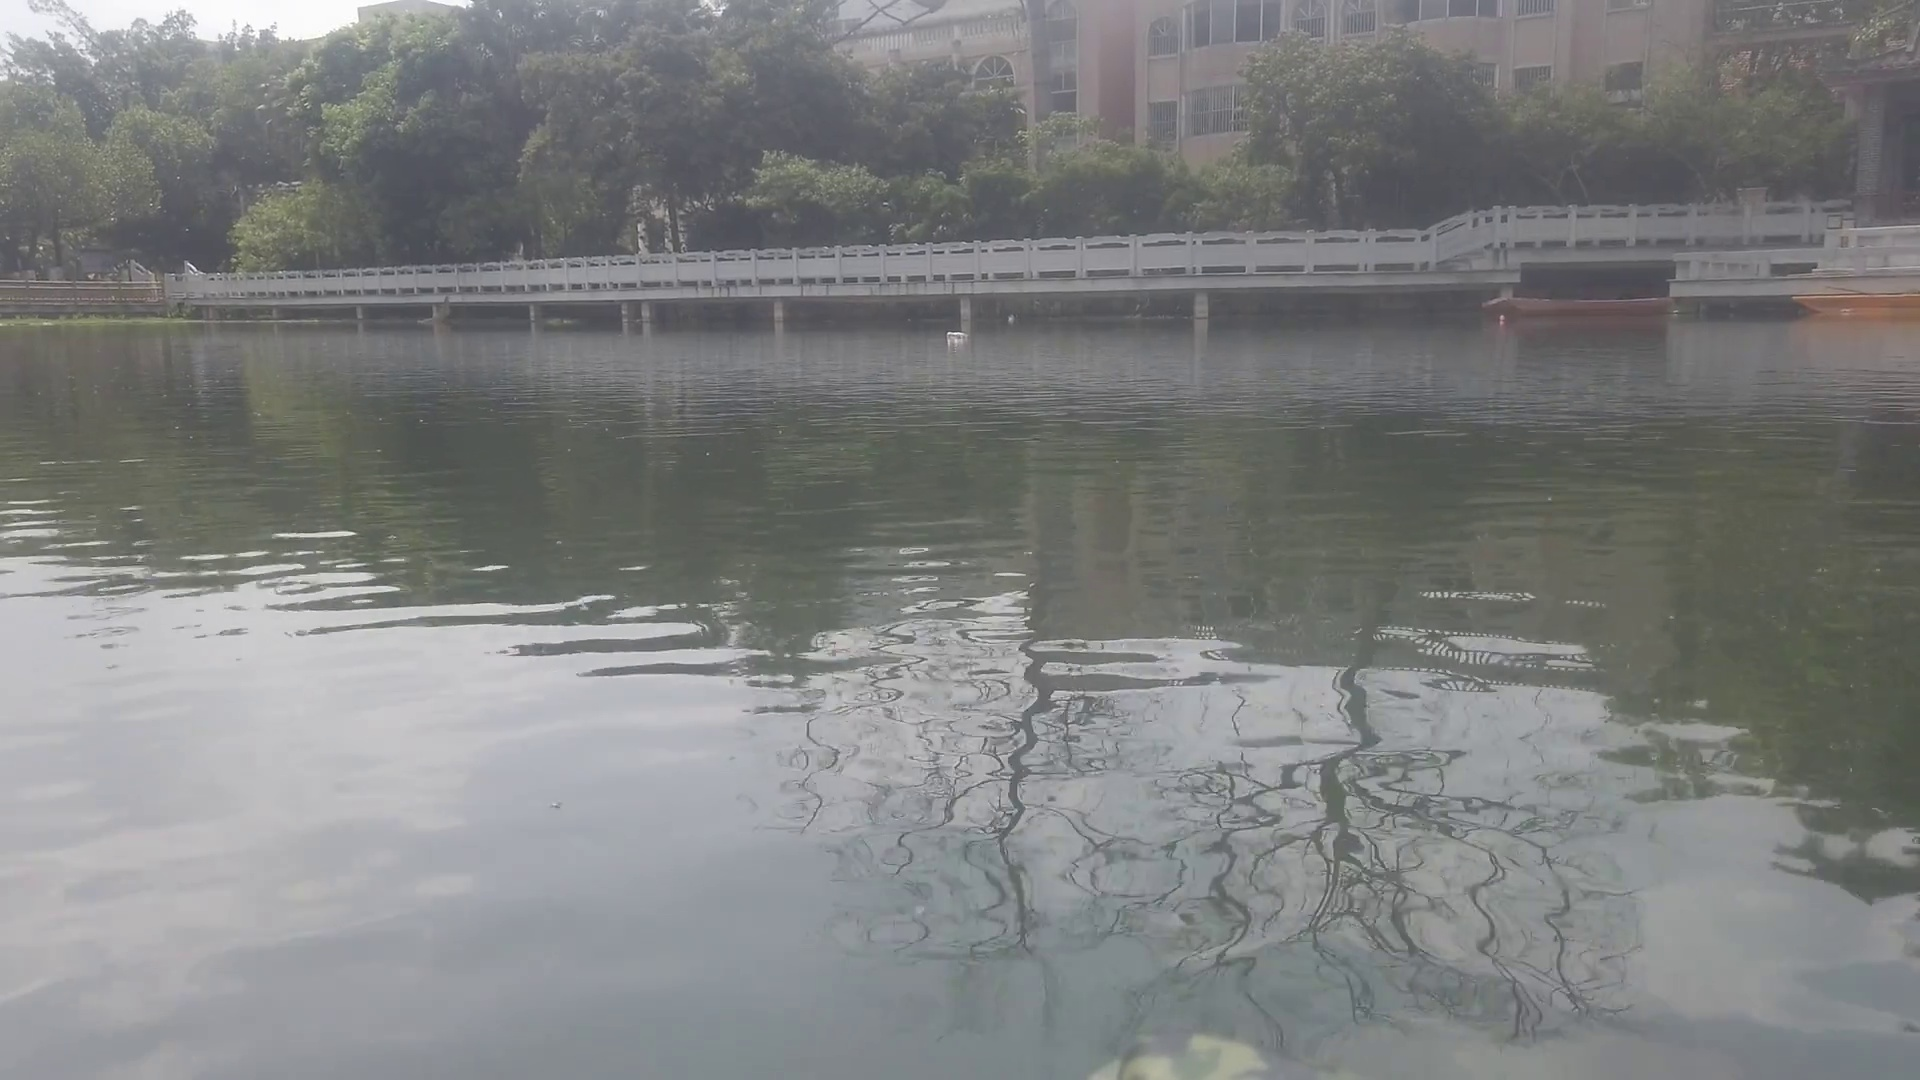bottle: (945, 328, 975, 340), (1497, 315, 1505, 328)
